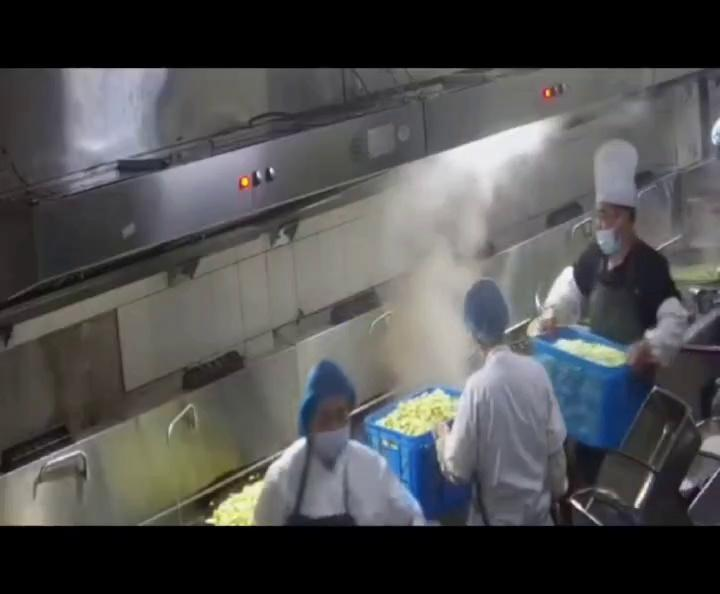mask: (594, 214, 620, 251)
